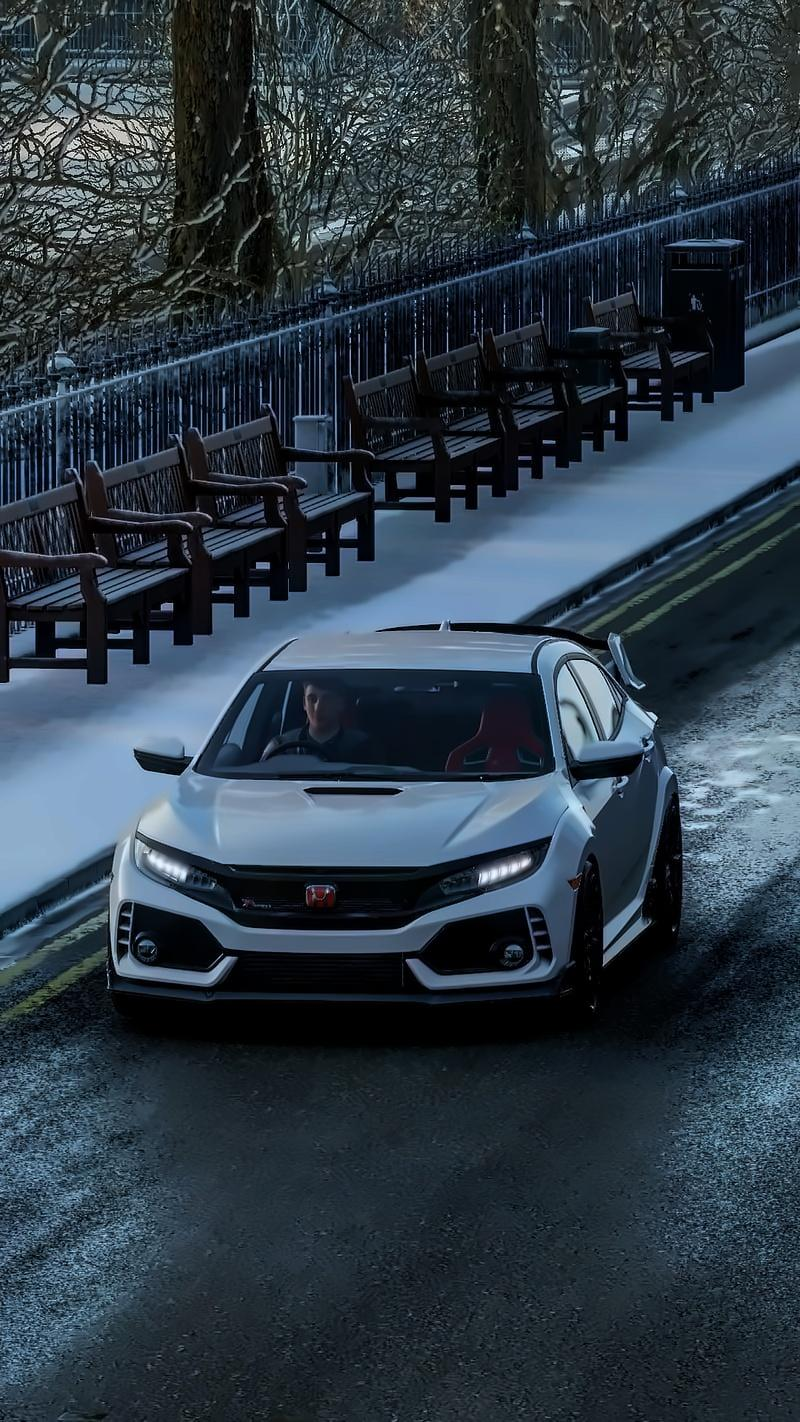Car hood: (135, 765, 569, 871)
Front bumper: (98, 869, 584, 1013)
Headlight - -L-: (432, 841, 551, 904)
Headlight - -R-: (128, 825, 224, 895)
Passenger-s door - -F-L-: (558, 653, 632, 952)
Passenger-s door - -R-L-: (585, 653, 663, 953)
Side bumper - -L-: (596, 898, 659, 975)
Side mirror - -L-: (565, 737, 647, 788)
Side mirror - -R-: (125, 730, 197, 783)
